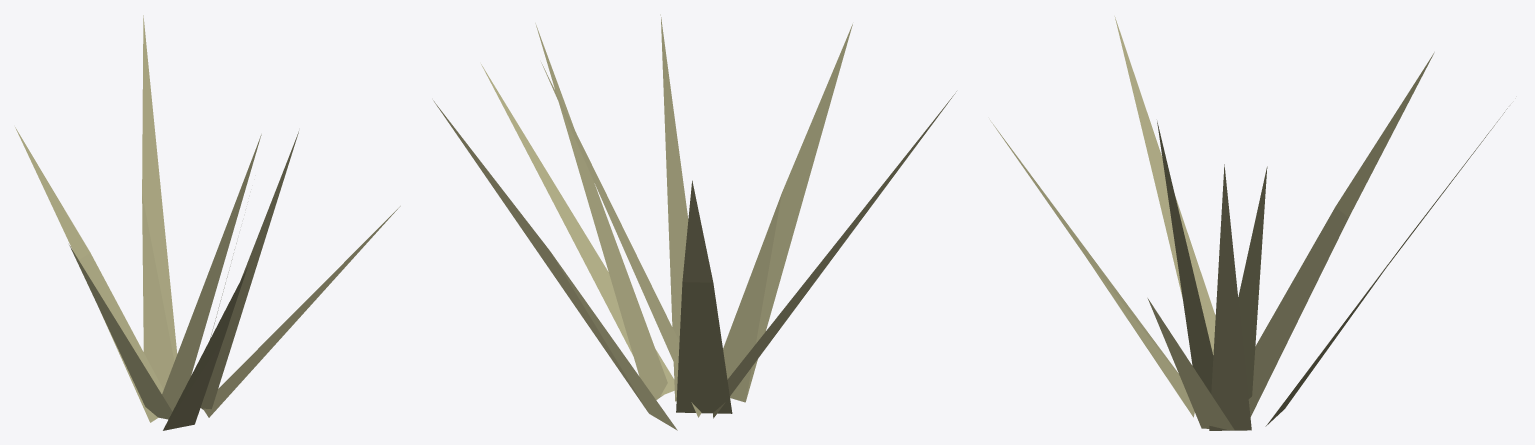
The model's file is grass_tuft_b_LOD1.fbx.
3 renders of one model, left to right at view 1: azimuth 30°, elevation 25°; view 2: azimuth 150°, elevation 25°; view 3: azimuth 270°, elevation 25°, orthographic. The views are drawn at different scales.
Parts seen in each view (by area): view 1: grass_tuft_b_LOD1; view 2: grass_tuft_b_LOD1; view 3: grass_tuft_b_LOD1.
Part boxes in pixels (<box>): grass_tuft_b_LOD1: <box>15,15,400,430</box>; grass_tuft_b_LOD1: <box>433,14,956,430</box>; grass_tuft_b_LOD1: <box>990,16,1507,430</box>.
Bounding box in the file's own units: 74.87 × 61.07 × 78.81.
